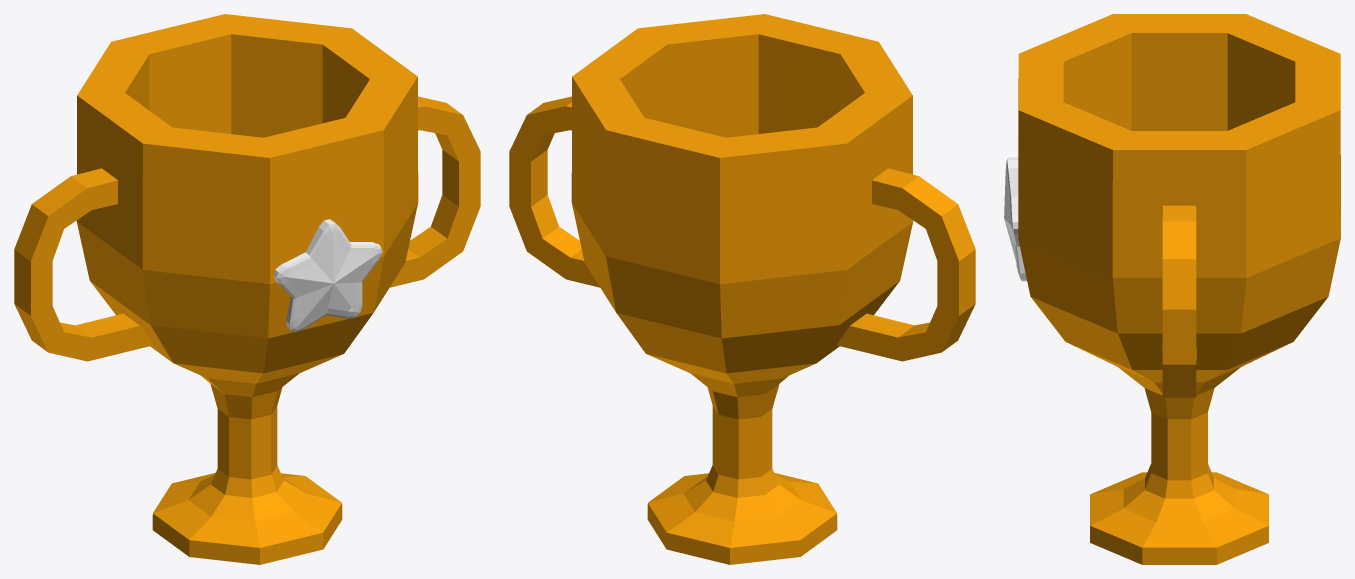
Rendered from trophy_low.glb.
The picture shows the model from 3 angles, left to right: view 1: azimuth 30°, elevation 25°; view 2: azimuth 150°, elevation 25°; view 3: azimuth 270°, elevation 25°; orthographic projection.
Parts seen in each view (by area): view 1: Trophy; view 2: Trophy; view 3: Trophy.
Boxes of the visible parts, left/top/right/bottom form: Trophy: left=14, top=14, right=480, bottom=564; Trophy: left=509, top=14, right=975, bottom=564; Trophy: left=1004, top=14, right=1340, bottom=564.
Size of the model in its own units: 3.02 by 2.81 by 1.93.
